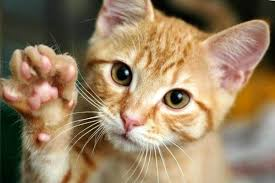Gato: (69, 2, 271, 159)
